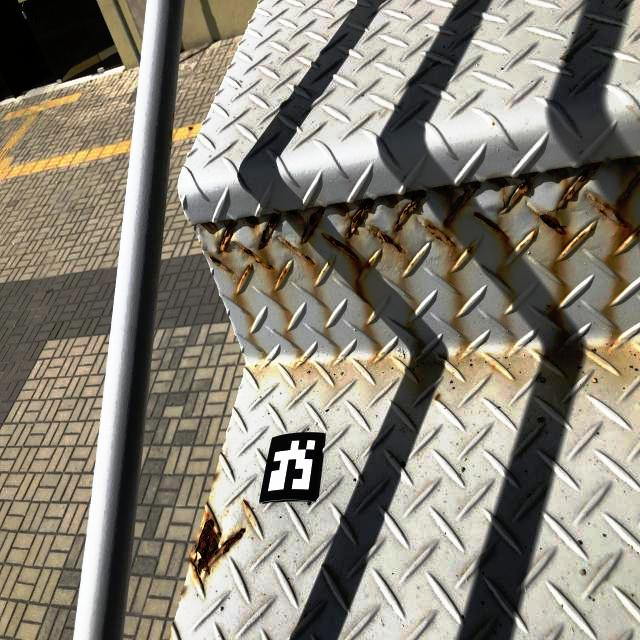Corrosion: (191, 512, 245, 577), (449, 181, 481, 215), (351, 199, 374, 231), (258, 214, 279, 248), (377, 228, 403, 255), (427, 220, 454, 246), (599, 202, 627, 227), (473, 210, 502, 233), (242, 246, 272, 267), (538, 213, 564, 233), (329, 237, 355, 256), (404, 191, 426, 212), (221, 221, 234, 251), (576, 169, 590, 184), (520, 178, 531, 192), (242, 266, 252, 281), (246, 216, 258, 226), (436, 185, 451, 193), (621, 157, 632, 167), (286, 241, 296, 251), (209, 255, 221, 263), (493, 178, 506, 185), (592, 163, 601, 173), (281, 268, 287, 282), (303, 253, 312, 261), (311, 211, 316, 225), (466, 246, 473, 255), (310, 226, 316, 236), (335, 203, 345, 209), (318, 207, 325, 215), (367, 259, 372, 268), (287, 210, 298, 214), (386, 195, 394, 200), (243, 500, 248, 507)
